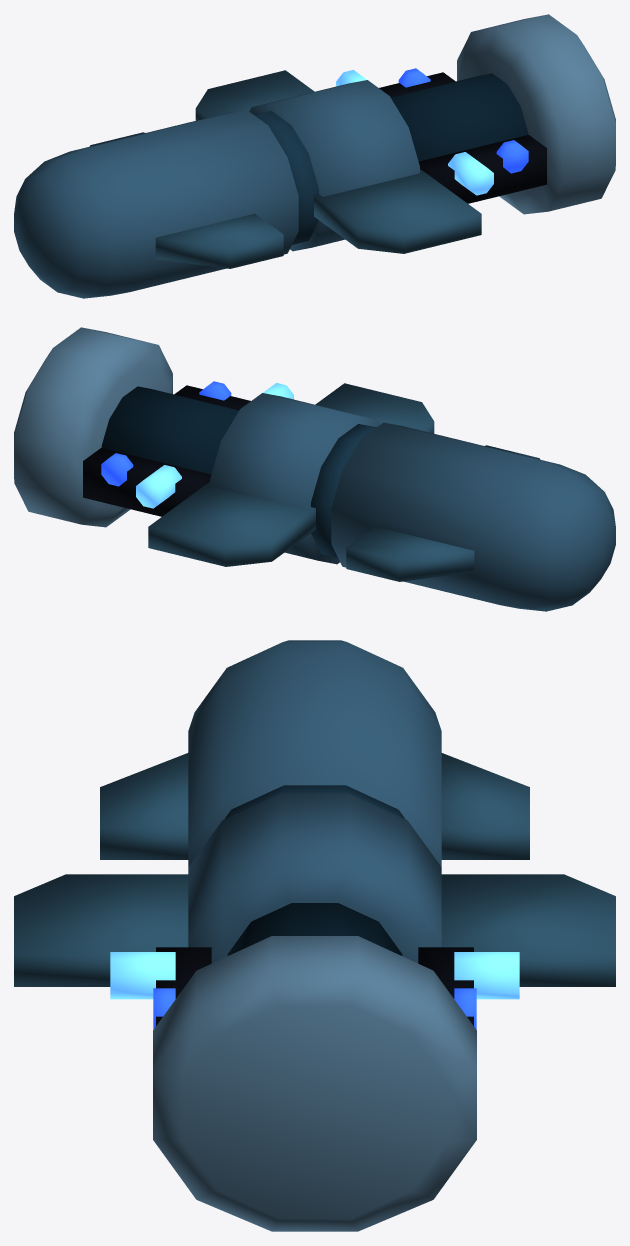
Rendered from newshv-237.glb.
3 views of the same model, one above another, from view 1: azimuth 30°, elevation 25°; view 2: azimuth 150°, elevation 25°; view 3: azimuth 270°, elevation 25° (orthographic). The views are drawn at different scales.
Visible parts, largest first — view 1: newshv-237; view 2: newshv-237; view 3: newshv-237.
Boxes of the visible parts, left/top/right/bottom form: newshv-237: left=14, top=14, right=615, bottom=298; newshv-237: left=14, top=327, right=615, bottom=611; newshv-237: left=14, top=640, right=615, bottom=1231.
Size of the model in its own units: 1.88 by 0.5463 by 1.17.
